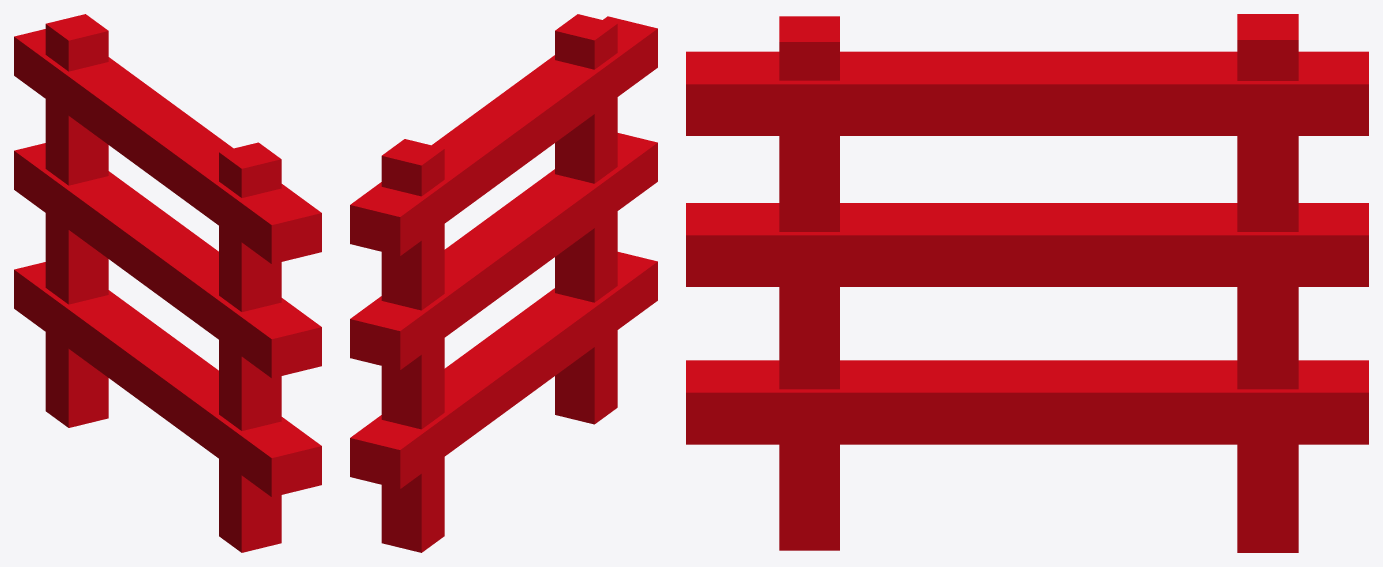
3 renders of one model, left to right at view 1: azimuth 30°, elevation 25°; view 2: azimuth 150°, elevation 25°; view 3: azimuth 270°, elevation 25°, orthographic. The views are drawn at different scales.
Visible parts, largest first — view 1: saku; view 2: saku; view 3: saku.
Part boxes in pixels (box(x1,y1,x2,y2)): saku: box(14, 14, 321, 552); saku: box(350, 14, 657, 552); saku: box(686, 14, 1368, 552).
Bounding box in the file's own units: 253 × 1865 × 2248.
